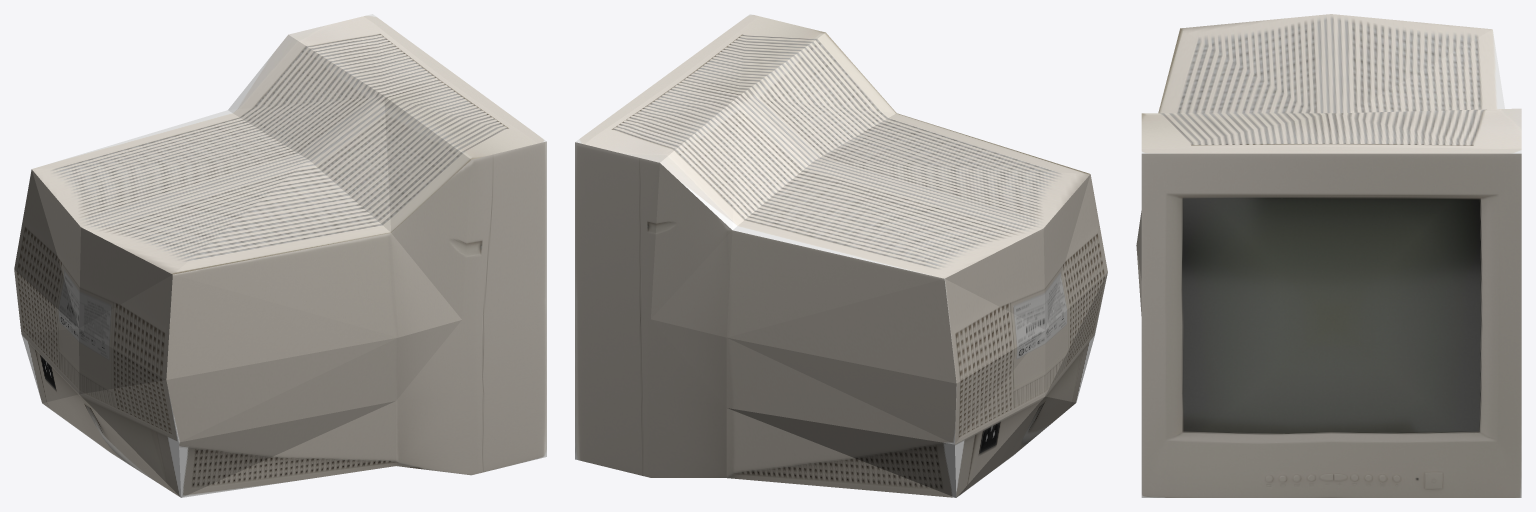
The model's file is pc_ekran.dae.
3 renders of one model, left to right at view 1: azimuth 30°, elevation 25°; view 2: azimuth 150°, elevation 25°; view 3: azimuth 270°, elevation 25°, orthographic. The views are drawn at different scales.
Parts seen in each view (by area): view 1: Cube; view 2: Cube; view 3: Cube.
Boxes of the visible parts, x1,y1,x2,y2 form: Cube: [14, 14, 546, 497]; Cube: [575, 14, 1107, 497]; Cube: [1136, 14, 1521, 497].
Size of the model in its own units: 2.53 by 2.03 by 2.
Materials: 3 (3 with a texture image).
